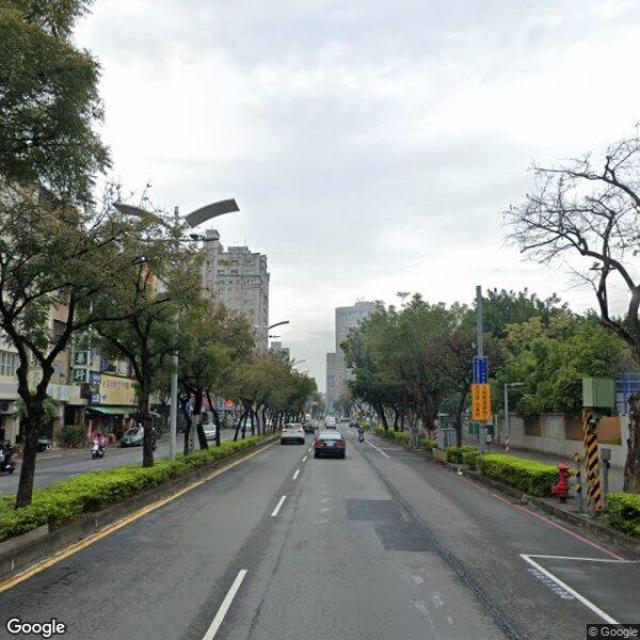Legalparking: (120, 424, 159, 456)
